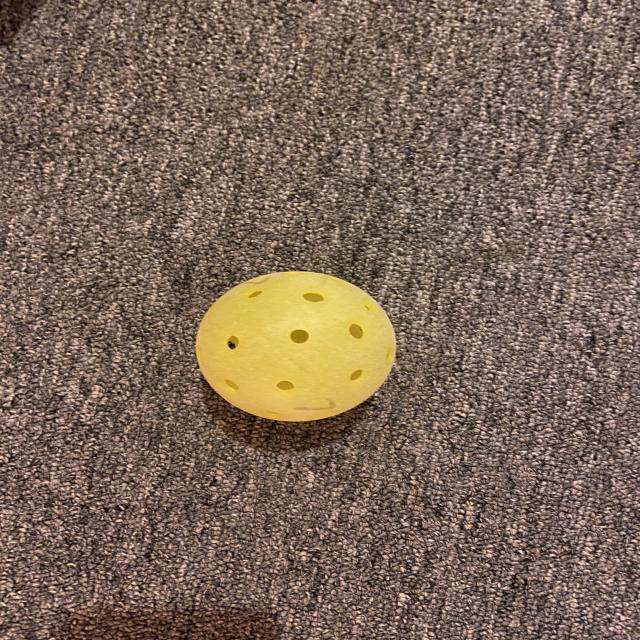ball: (197, 268, 400, 425)
